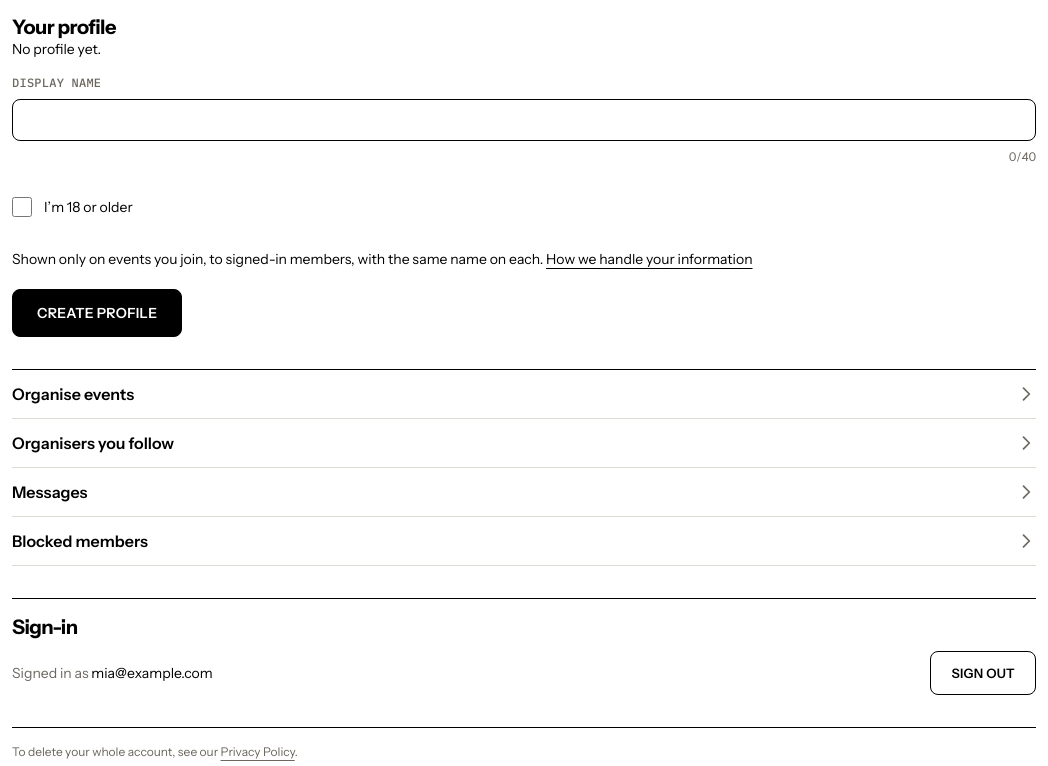
AccountContent › creates a profile: validates first, sends the 18+ confirmation, then shows and focuses the result
Type "Mia T." into the field labelled "Display name" at (524, 120), box [12,99,1036,141]
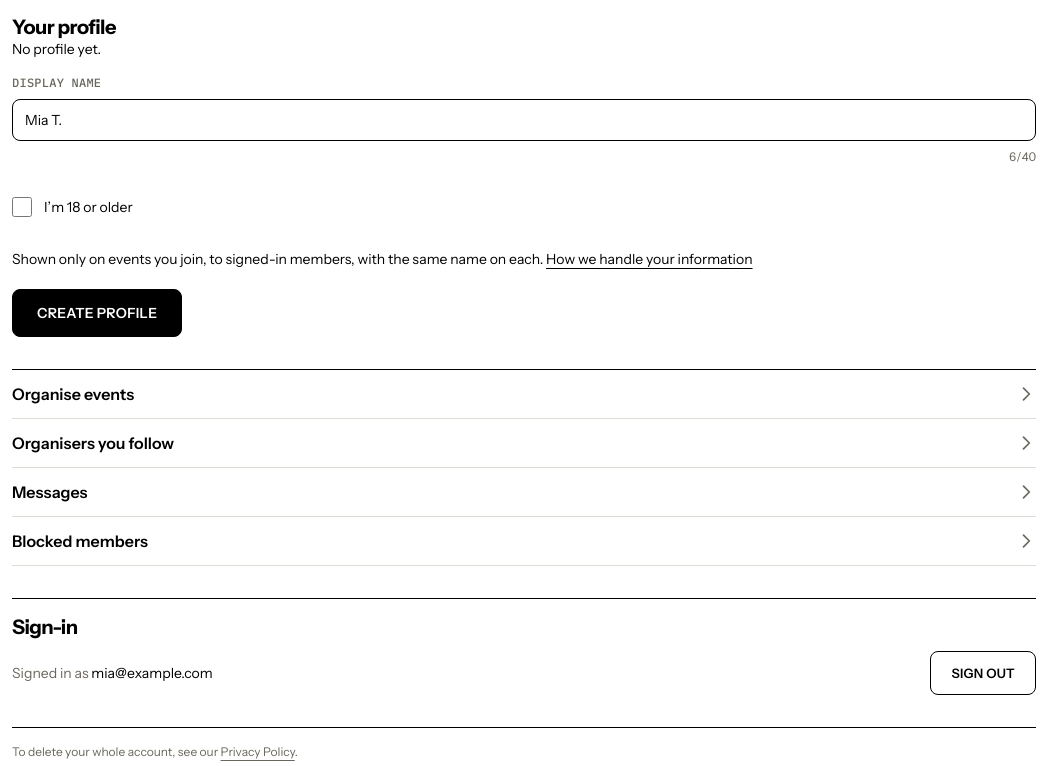
Click the button "Create profile" at (97, 313), box [12,289,182,337]
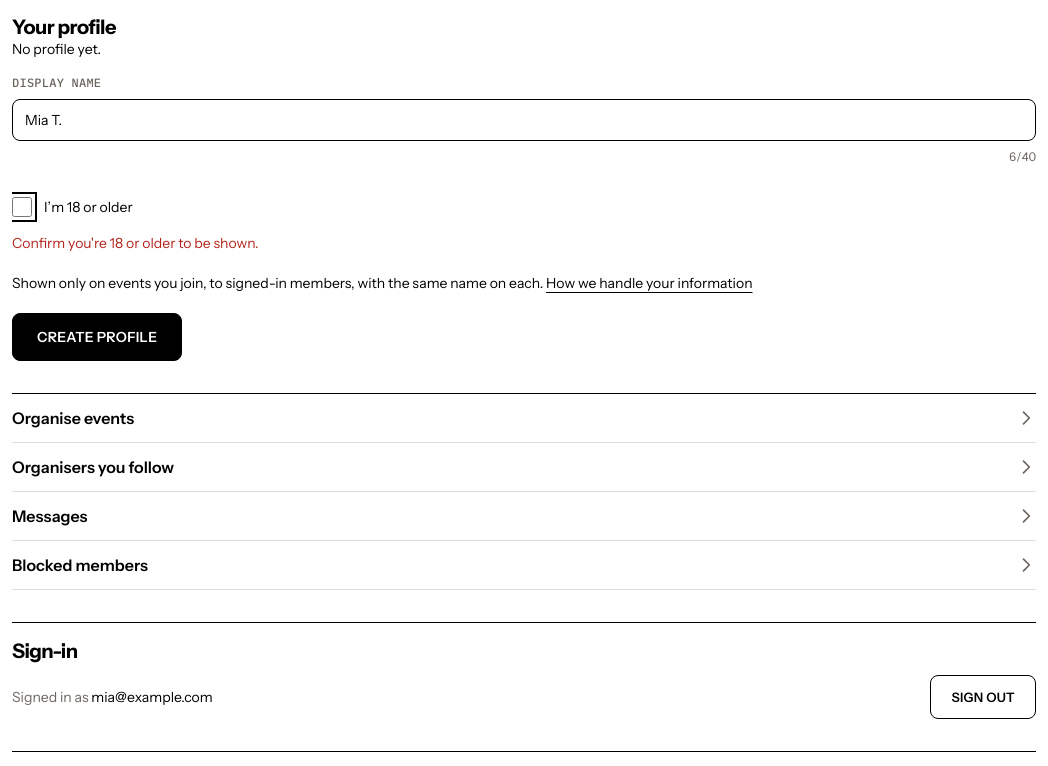
Click the checkbox labelled "I’m 18 or older" at (22, 207), box [12,197,32,217]
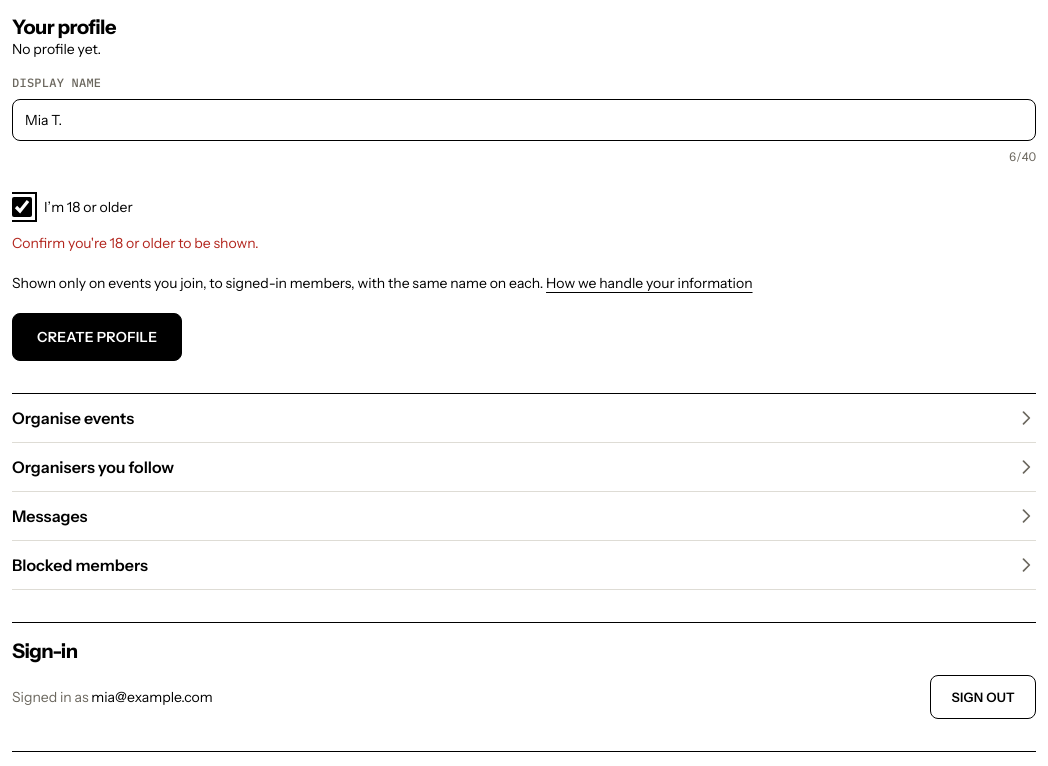
Click the button "Create profile" at (97, 337), box [12,313,182,361]
(page scrolled)
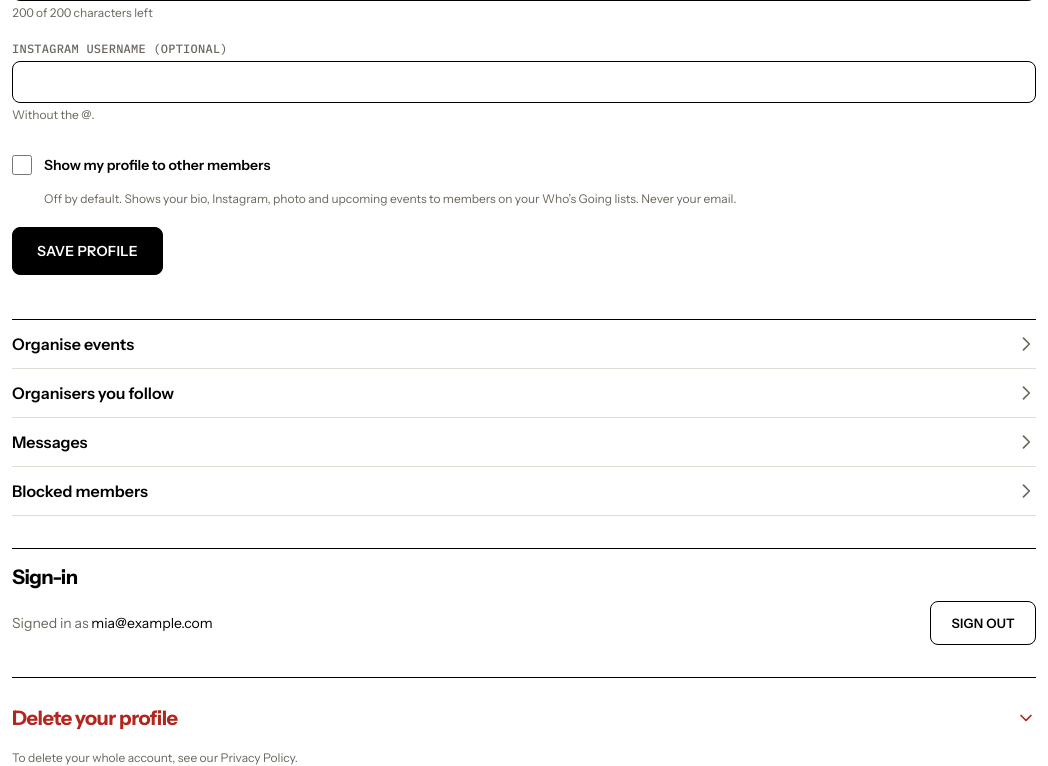
Expected: the button "Save profile" is shown, [12,227,163,275]
Expected: the button "Delete your profile" is shown, [12,694,1036,742]
